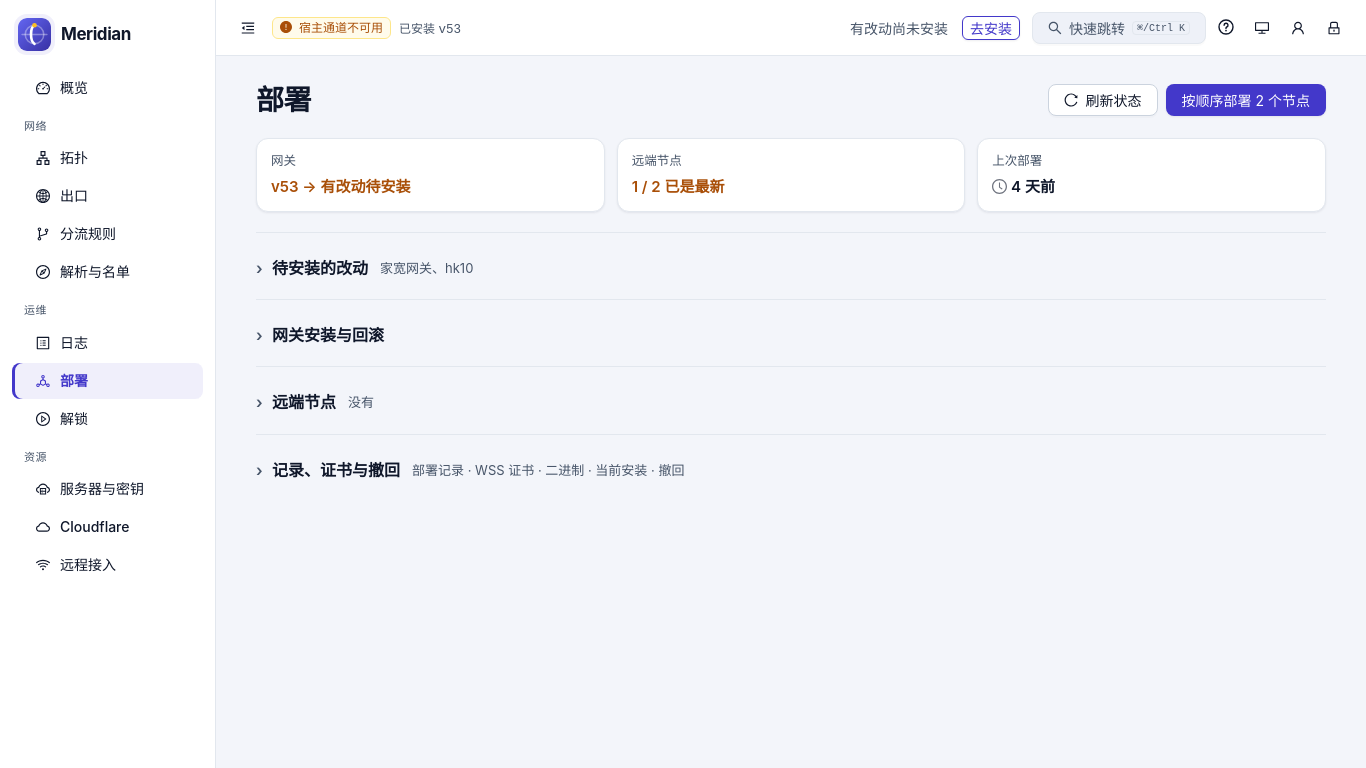
Scenario: 部署: three status cards, one main action, the rest folded › the same link opens a fold again after it was closed by hand
What coordinates should you click on to do the following:
click the link "远端节点"
I would click on:
 (657, 161)
Its box is [632,153,682,168].
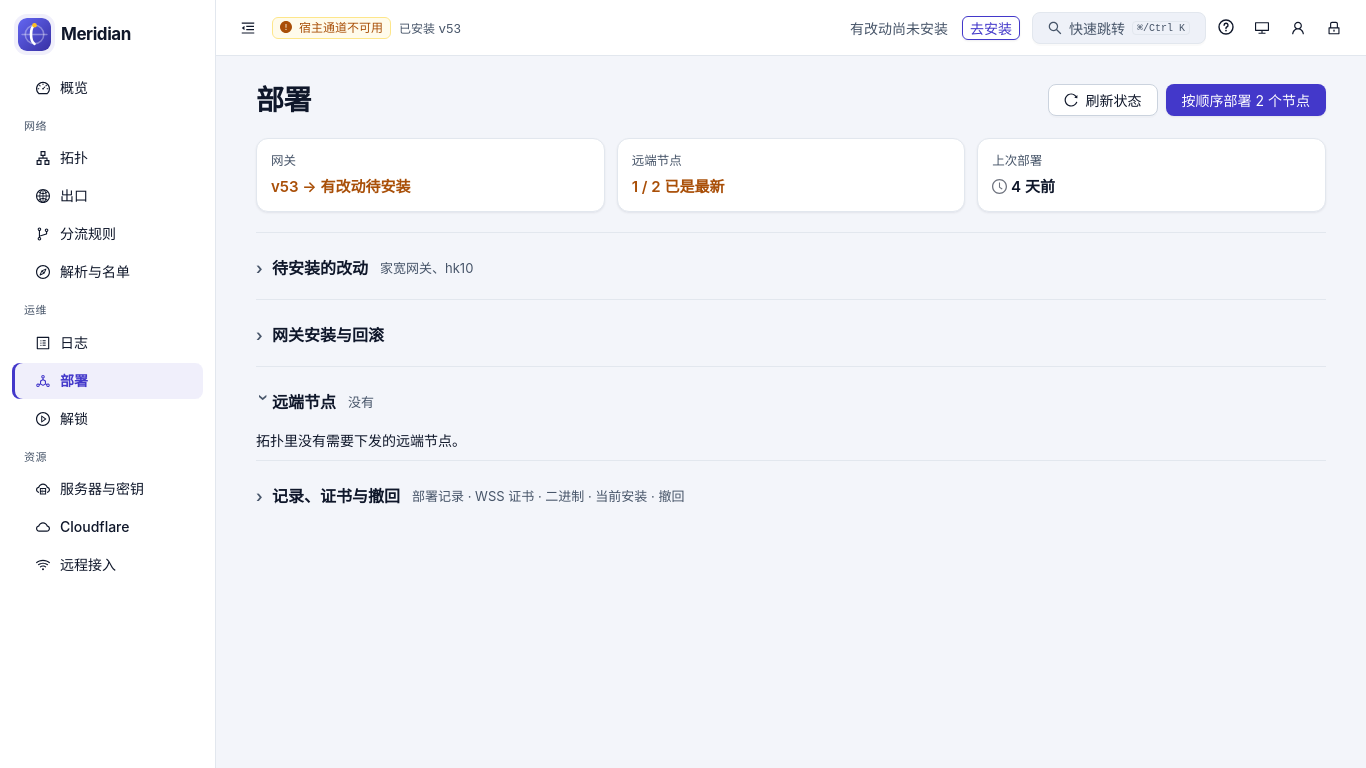
Result: the button "远端节点" is expanded
What coordinates should you click on to do the following:
click the button "远端节点"
I would click on:
 (296, 403)
Its box is [256,391,336,414].
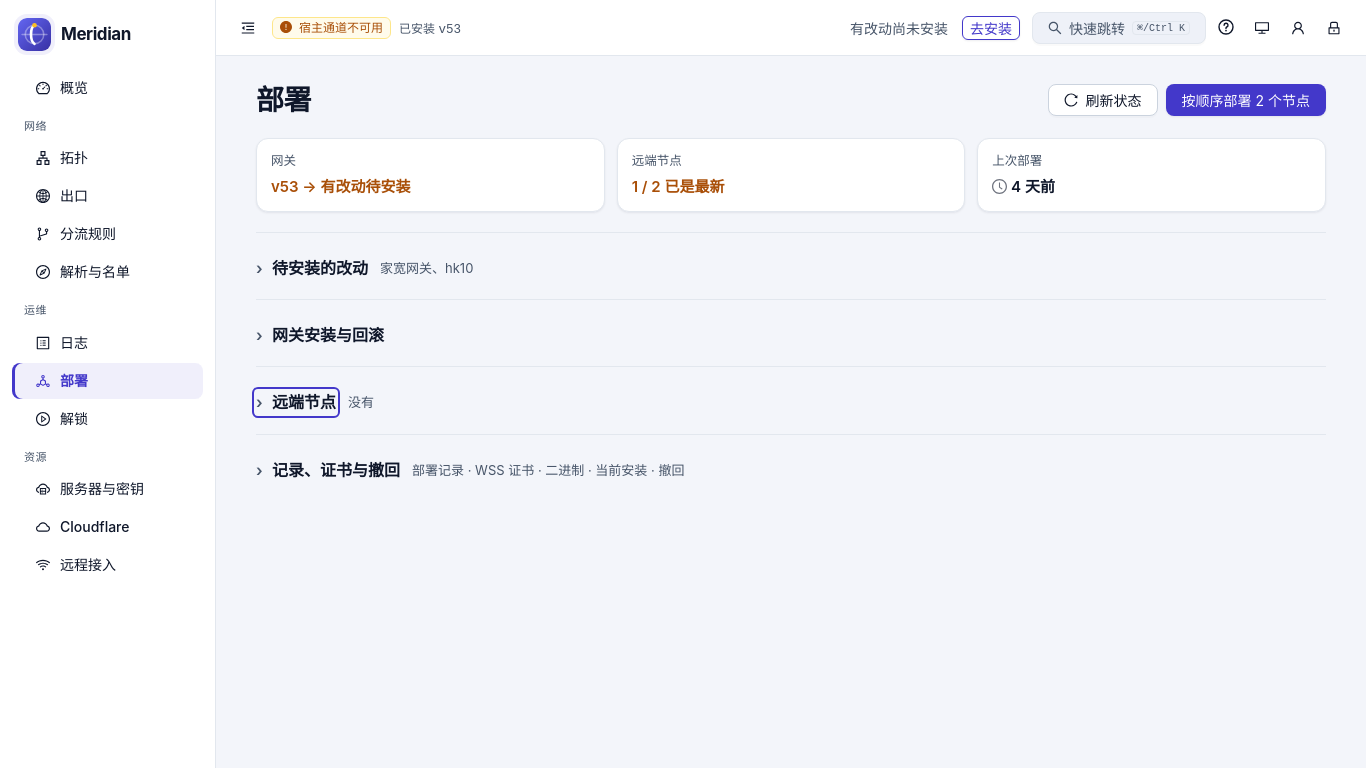
Result: the button "远端节点" is collapsed at [256,391,336,414]
What coordinates should you click on to do the following:
click the link "远端节点"
I would click on:
 (657, 161)
Its box is [632,153,682,168].
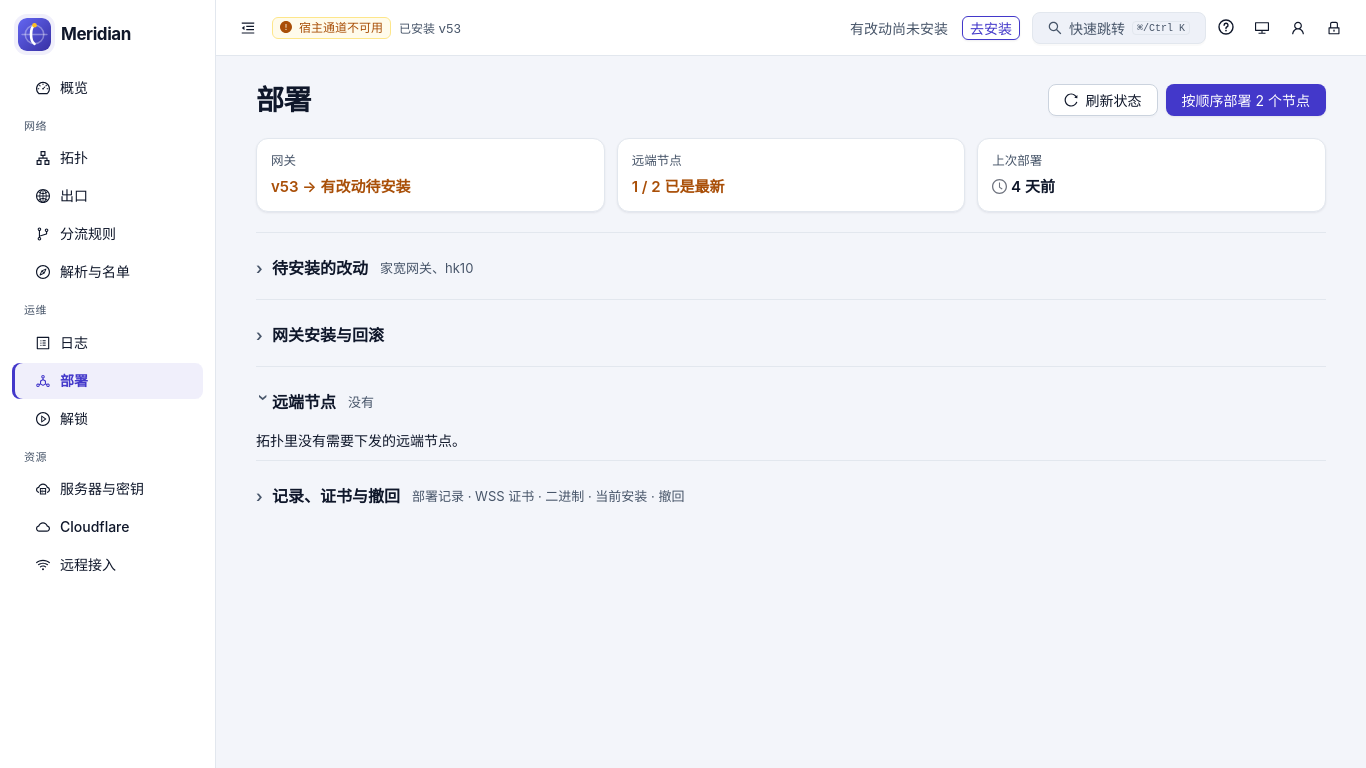
Result: the button "远端节点" is expanded at [256,391,336,414]
